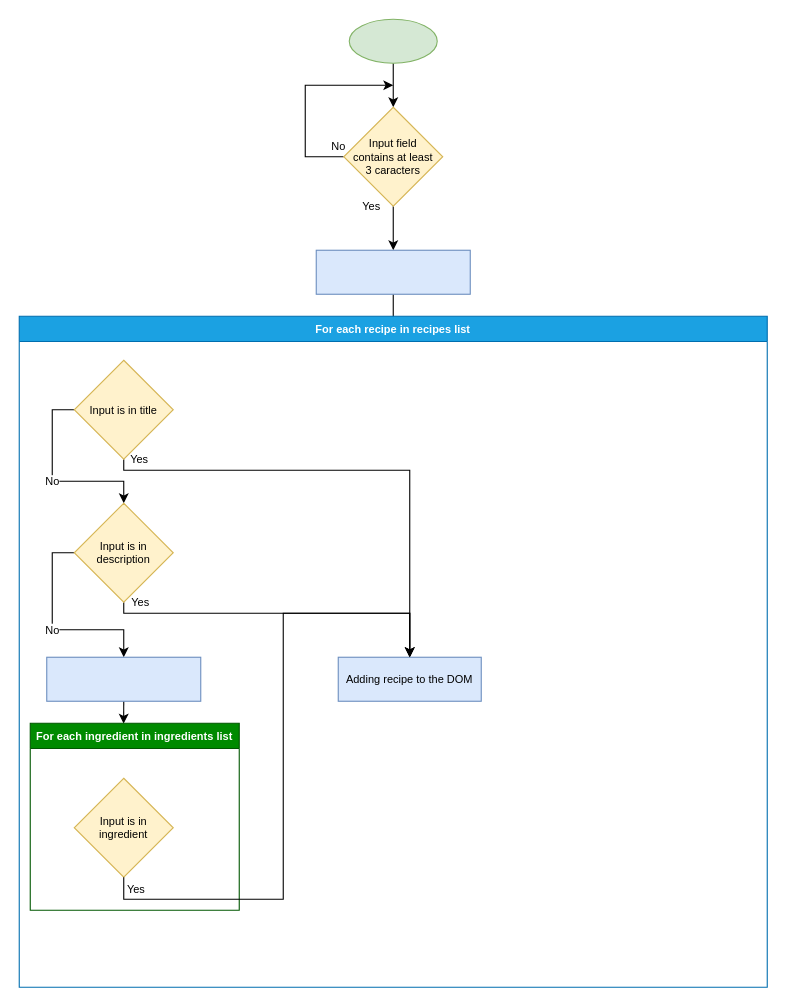
This 787x1007 diagram has some shape labels left out. The shapes that lost their labels are listed below. From the top down, each one's centre as x and y in pixels, then its label:
At point 392,40: "Start".
At point 392,271: "Callling Array.filter() and given callback on recipes list".
At point 123,678: "Calling Array.find() and given callback on ingredients list".
